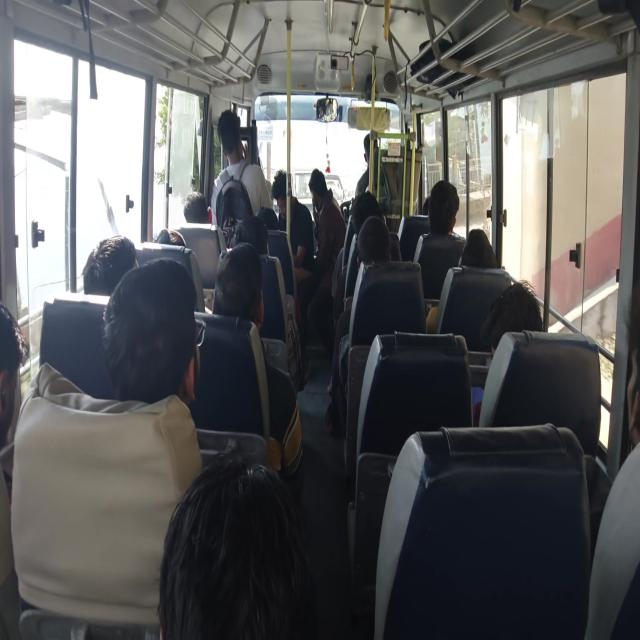person: (171, 475, 347, 640), (103, 274, 212, 411), (76, 232, 145, 294), (497, 286, 555, 348), (430, 188, 476, 260), (220, 246, 259, 324), (0, 324, 33, 414), (352, 228, 400, 286), (462, 226, 500, 284), (177, 181, 210, 235), (228, 213, 272, 253), (217, 110, 251, 157), (309, 166, 342, 211), (353, 197, 388, 235), (156, 210, 187, 252), (275, 173, 296, 208), (261, 202, 280, 226), (419, 196, 436, 216)
